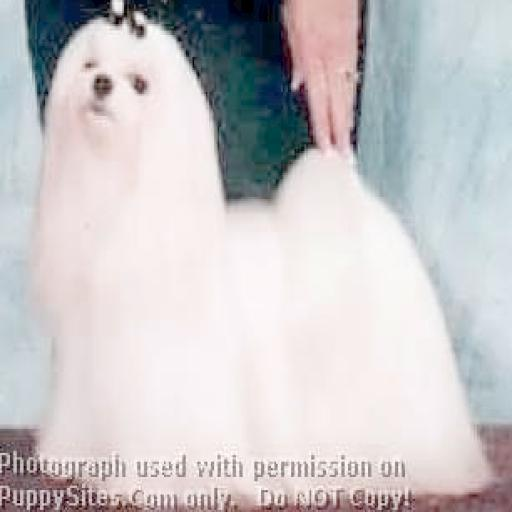dog_face: (44, 9, 190, 166)
